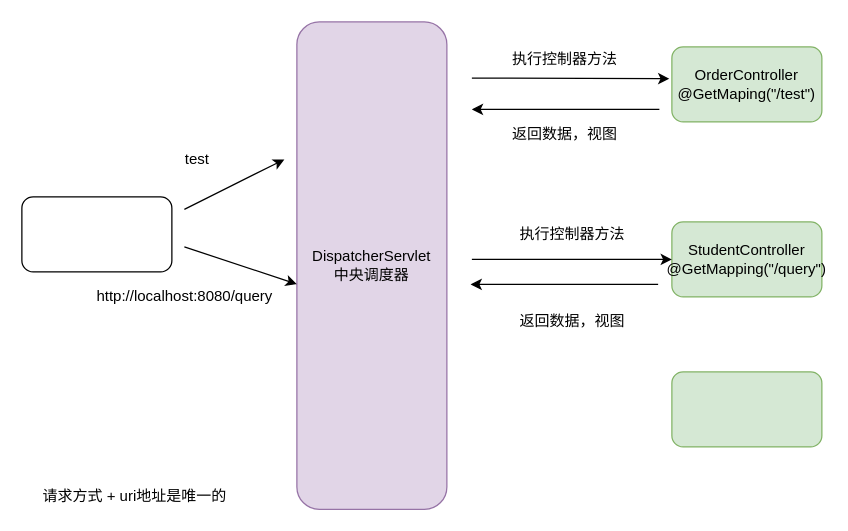
This 848x531 diagram has some shape labels left out. The centre of each missing label's shape, as x and y in pixels:
"ProductController" belongs at (746,409).
"用户请求1 用户请求2" belongs at (96,234).
